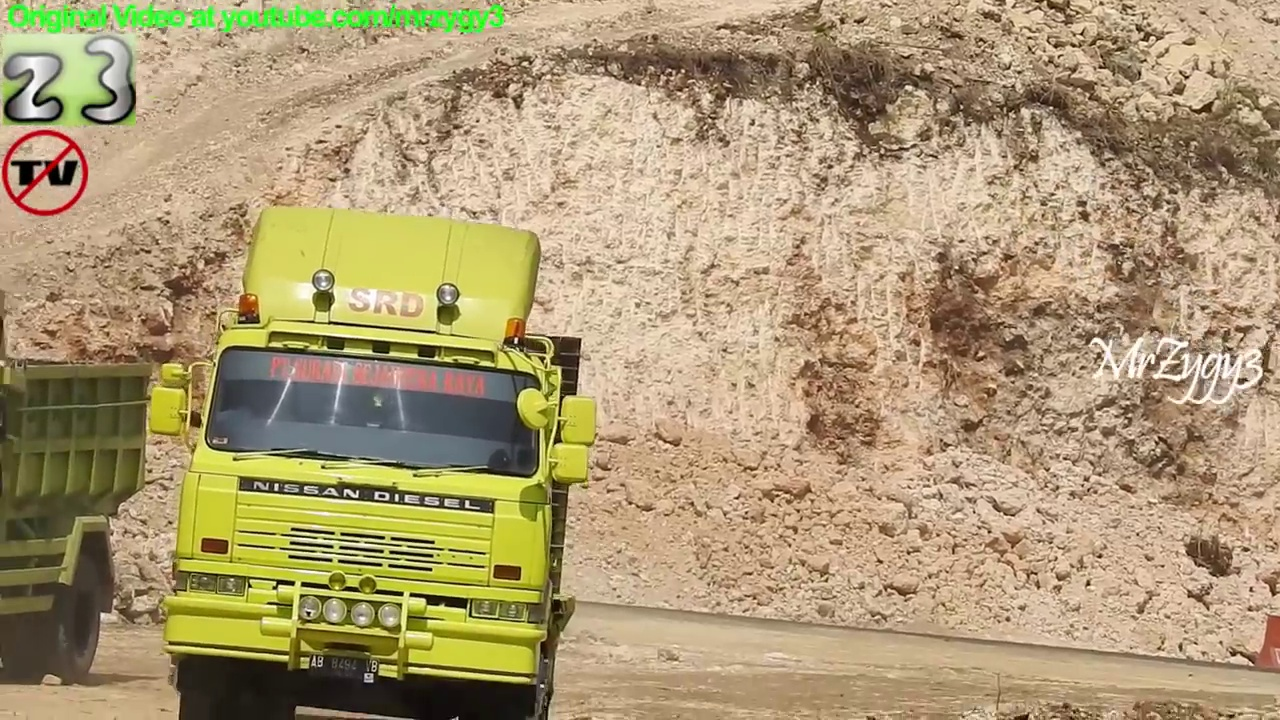truck: (147, 202, 606, 720), (1, 280, 153, 676)
